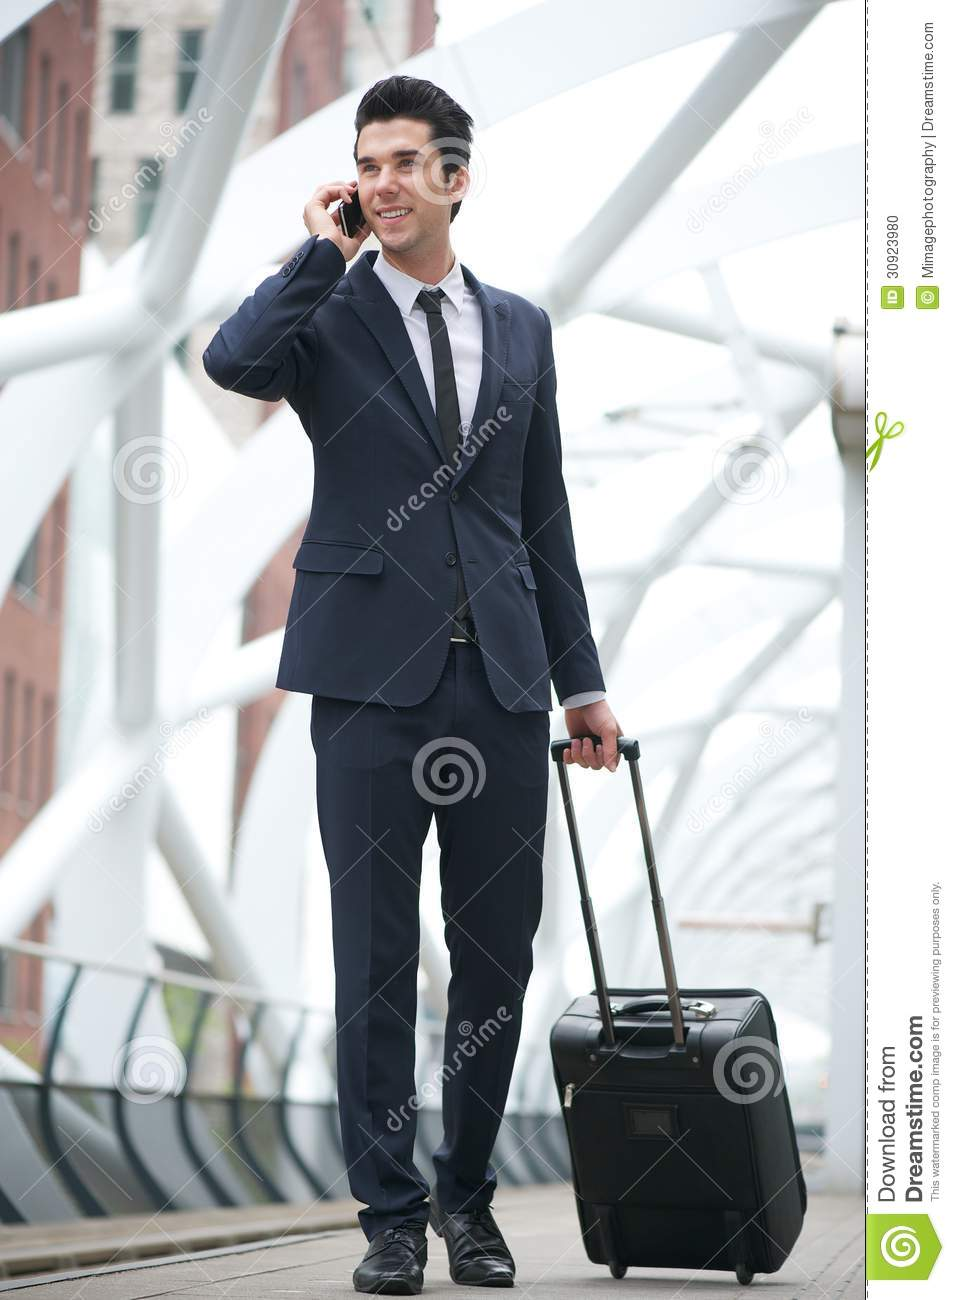phone: (337, 176, 366, 247)
talk: (304, 141, 435, 266)
